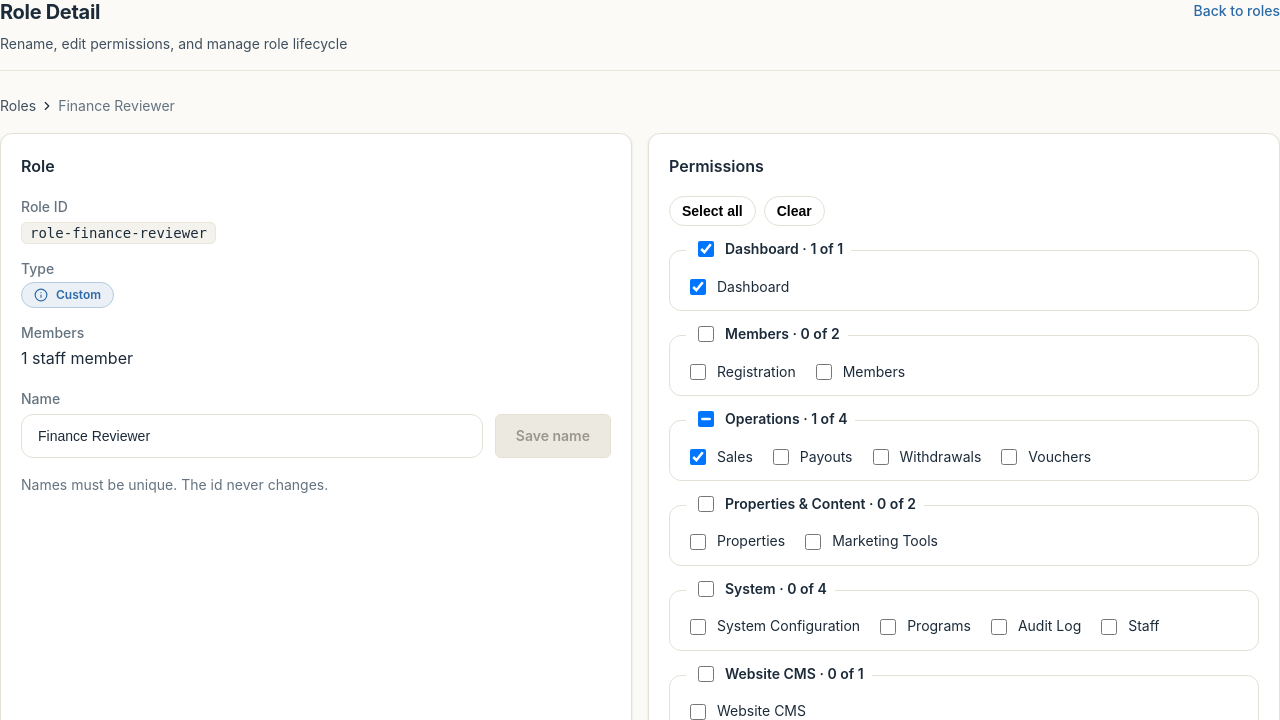
Test case: RoleDetailPage › discards permission drafts
This screenshot has width=1280, height=720.
Step 1. Click the checkbox labelled "Withdrawals" → (880, 457), box [872, 449, 888, 465]
(page scrolled)
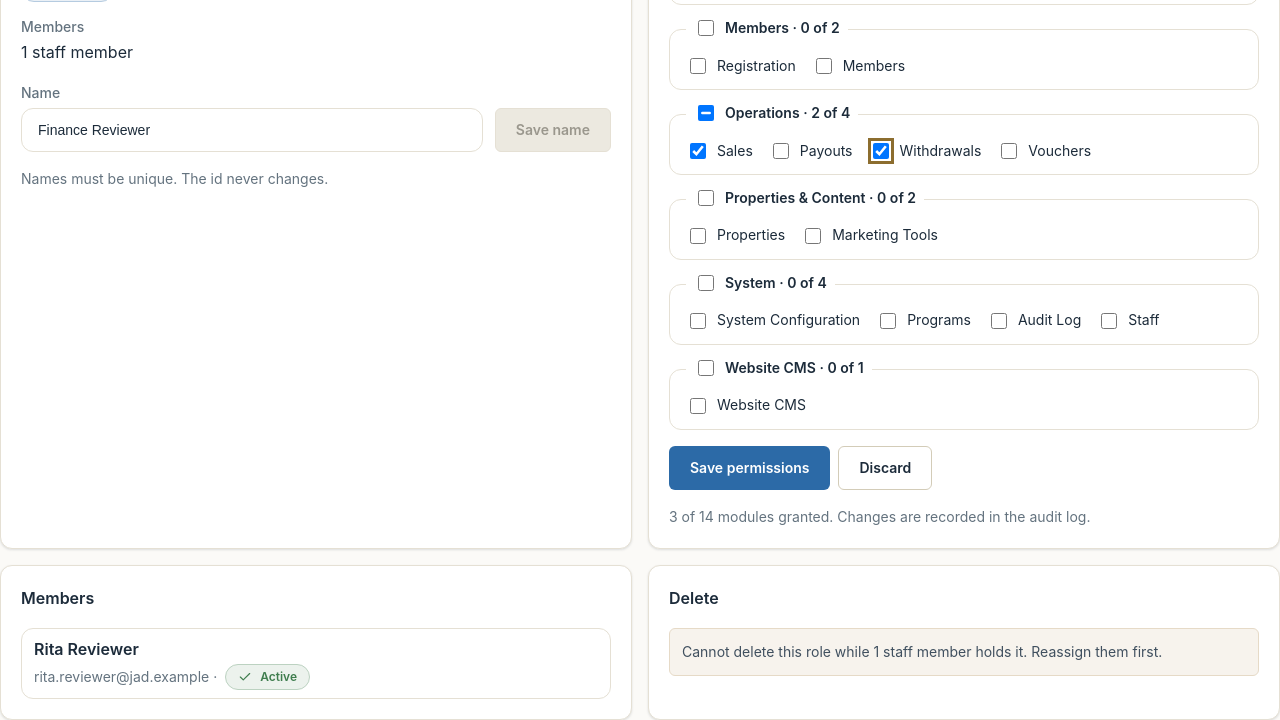
Expected: the checkbox labelled "Withdrawals" is checked, [872, 143, 888, 159]
Step 2. Click the button "Discard" → (885, 468), box [838, 446, 932, 490]
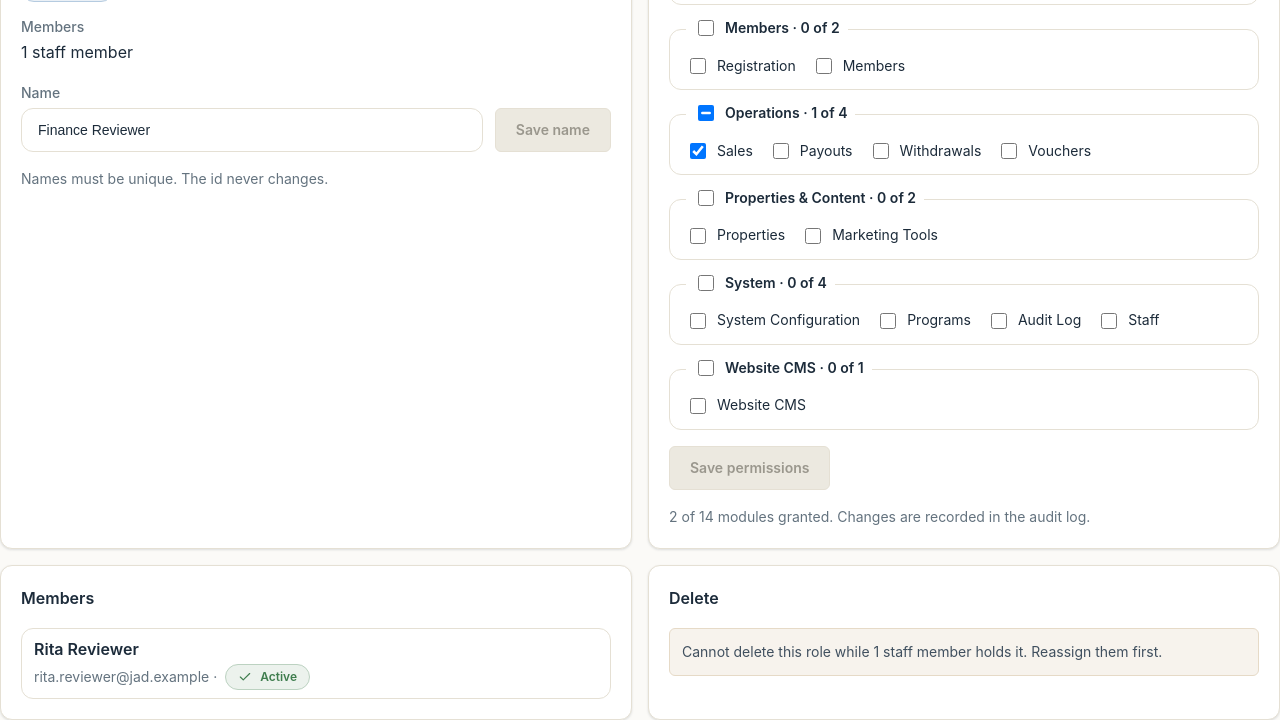
Expected: the checkbox labelled "Withdrawals" is not checked, [872, 143, 888, 159]
Expected: the button "Save permissions" is disabled, [669, 446, 830, 490]
